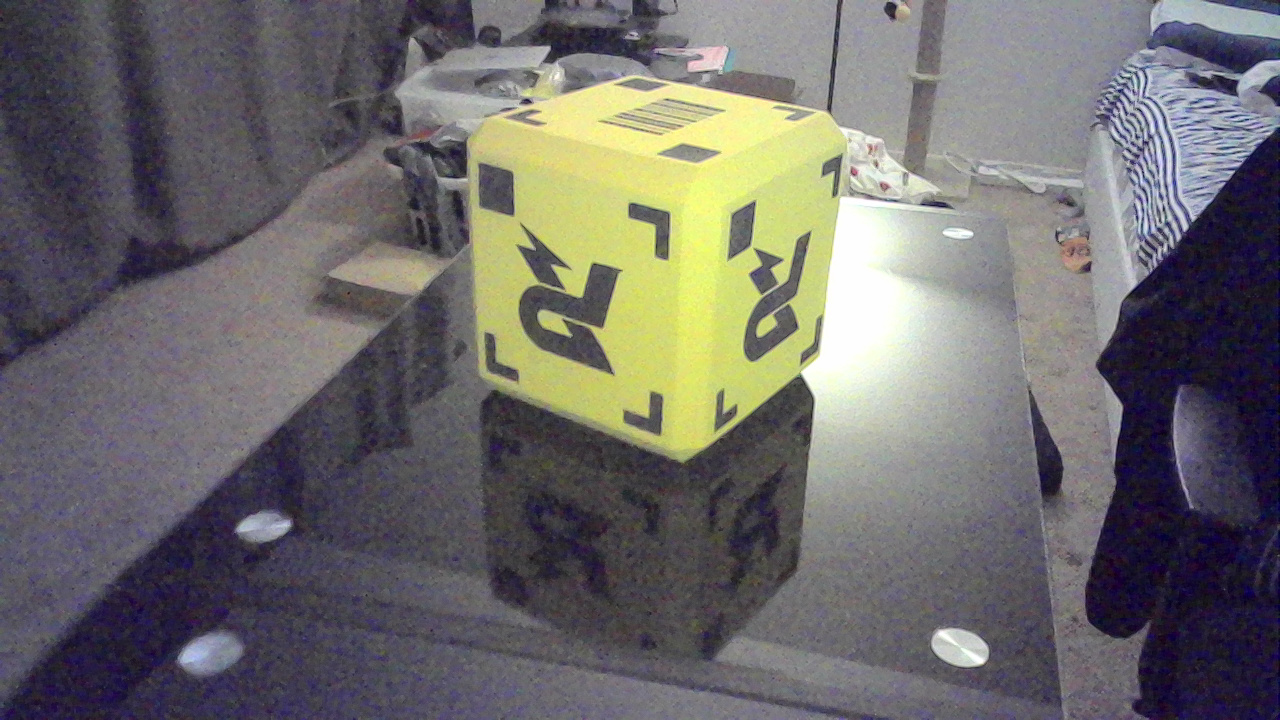Barcode: (593, 94, 743, 146)
R: (506, 223, 640, 383), (743, 233, 818, 365)
